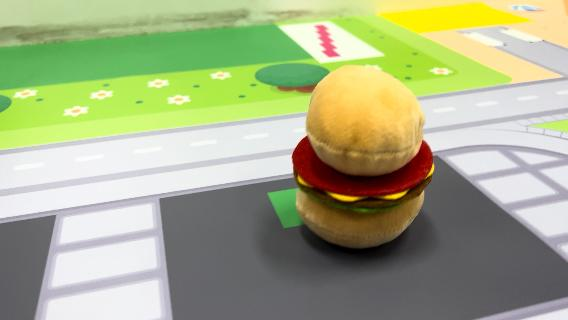burger: (288, 61, 438, 251)
